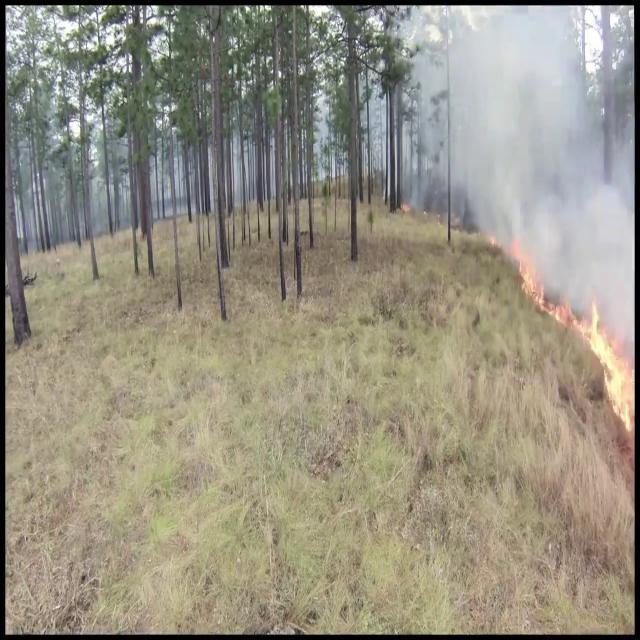Fire: (583, 296, 634, 452), (516, 256, 558, 317)
Smoke: (420, 6, 634, 318)
